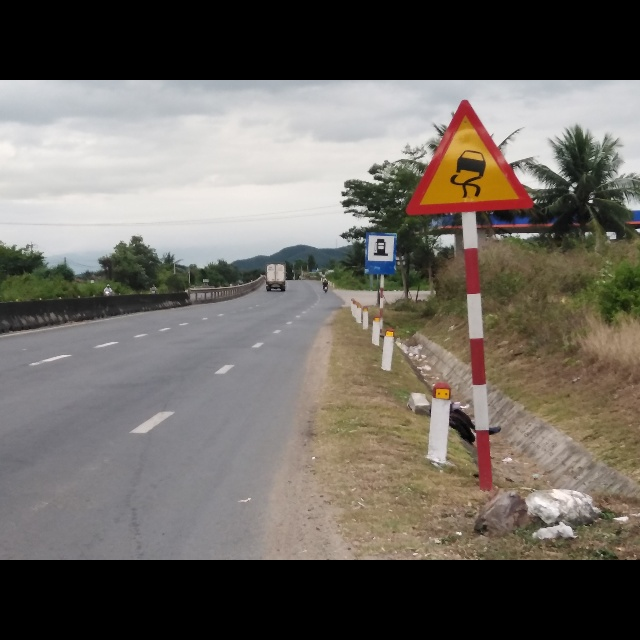Đường trơn trượt: (404, 101, 535, 219)
